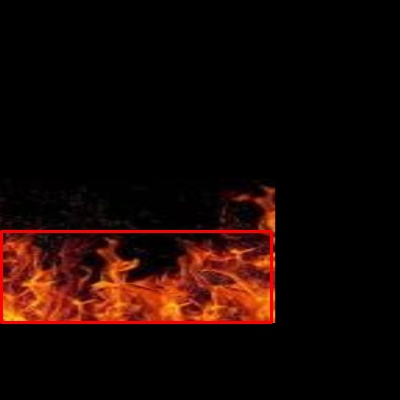firew: (1, 231, 271, 322)
